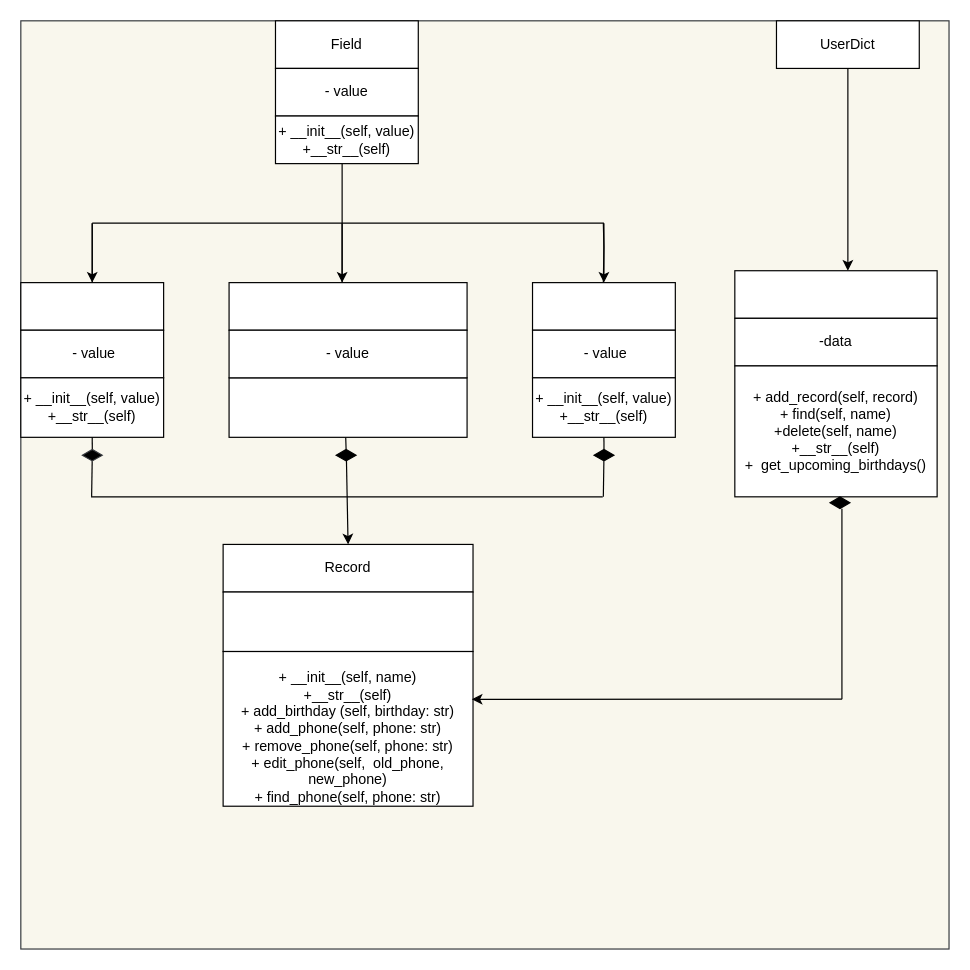
This 970x970 diagram has some shape labels left out. The shapes that lost their labels are listed below. From the top down, each one's box as (x1, y1, x2, y2) in pixels, then its label:
(20, 281, 164, 330): Name
(228, 281, 467, 330): Phone
(531, 281, 675, 330): Birthday
(734, 270, 937, 318): AddressBook
(228, 377, 467, 437): + __init__(self, value) + phone_validation(self, value) +__str__(self)
(222, 591, 473, 652): - name - phone - birthday
